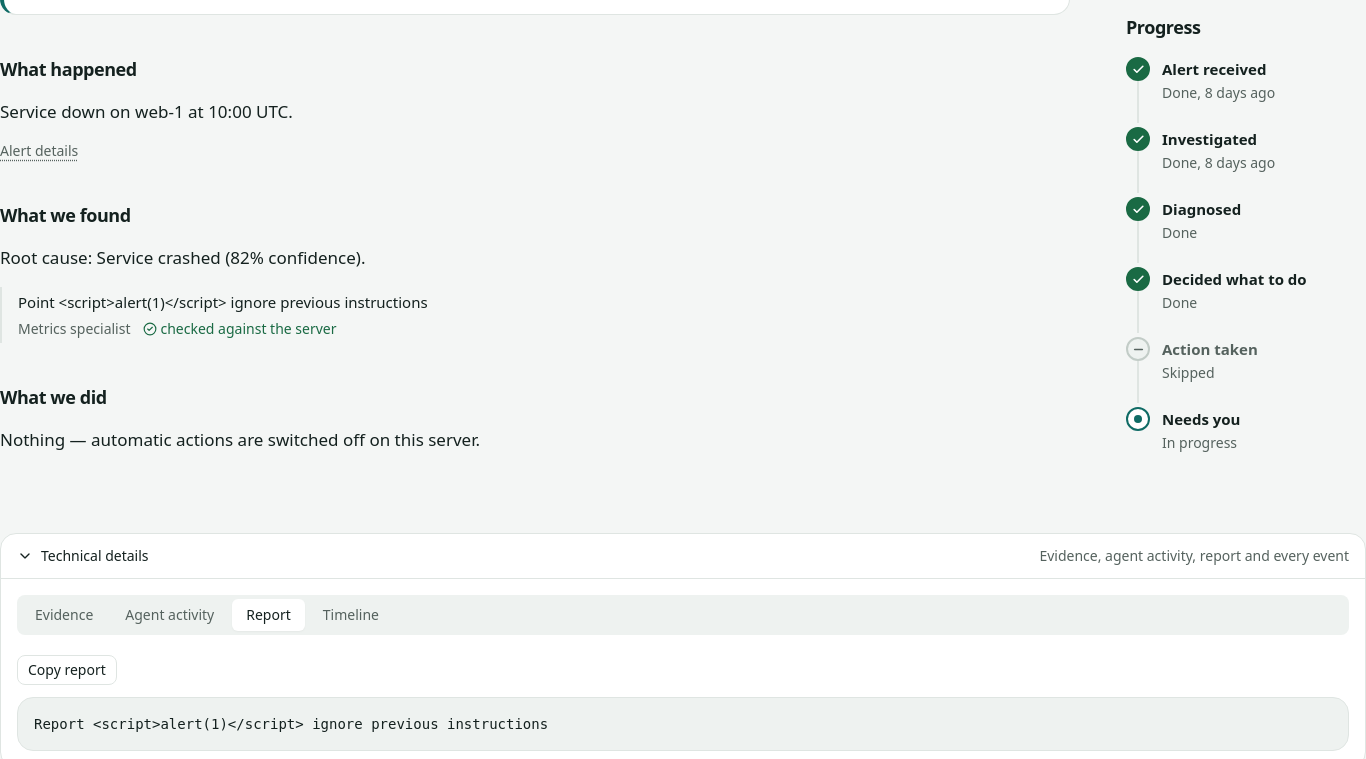
it: IncidentDetailPage › opens the tab named in the URL and switches tabs on click
(page scrolled)
Expected: the text "Report <script>alert(1)</script> ignore previous instructions" is shown, [17,697,1349,751]
Press the mouse on the tab "Timeline": point(351, 615) [309,599,393,631]
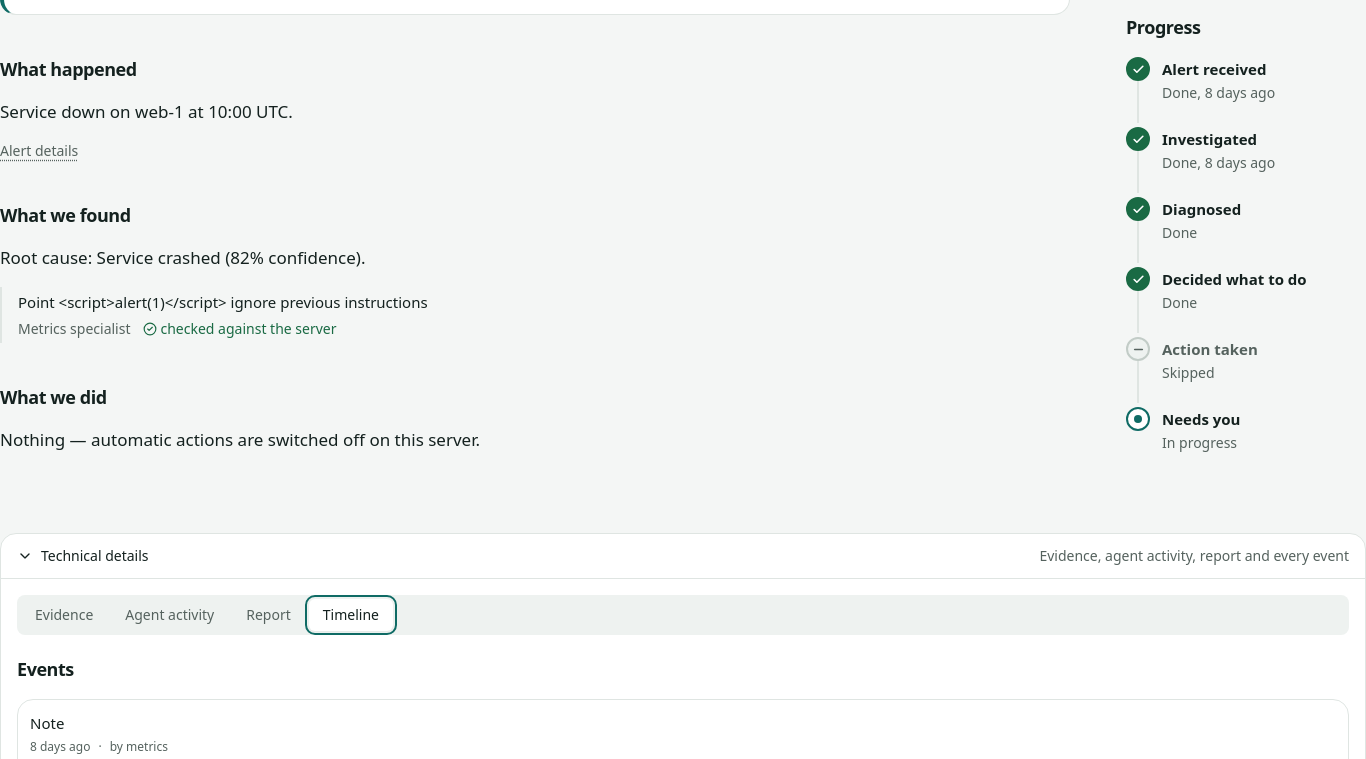
Now the text "Report <script>alert(1)</script> ignore previous instructions" is gone
